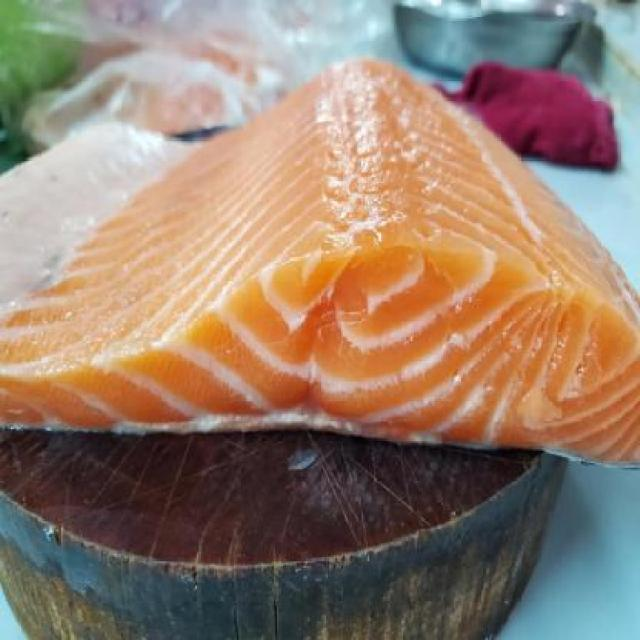salmon: (3, 42, 640, 506)
